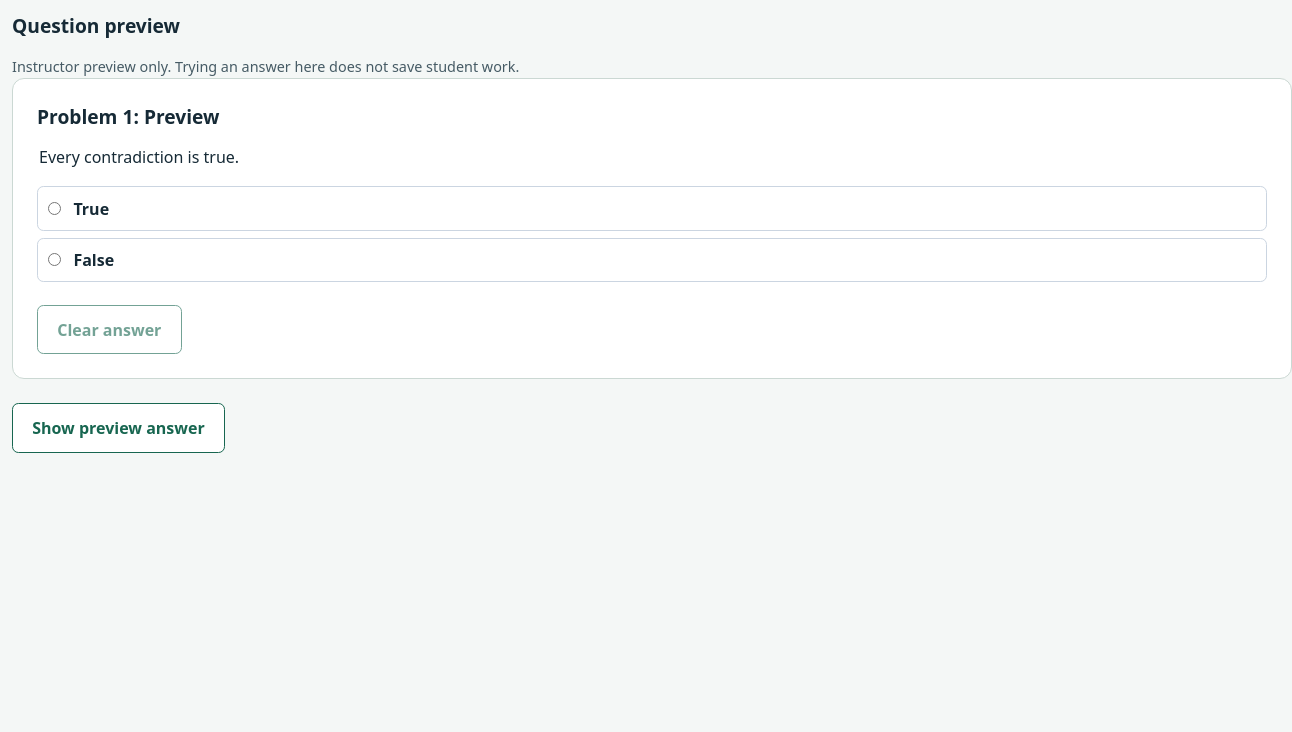
it: conceptual preview is interactive and reveals the explanation only on request
The width and height of the screenshot is (1292, 732).
Click the radio button labelled "True" at (55, 208), box x1=48 y1=202 x2=61 y2=215
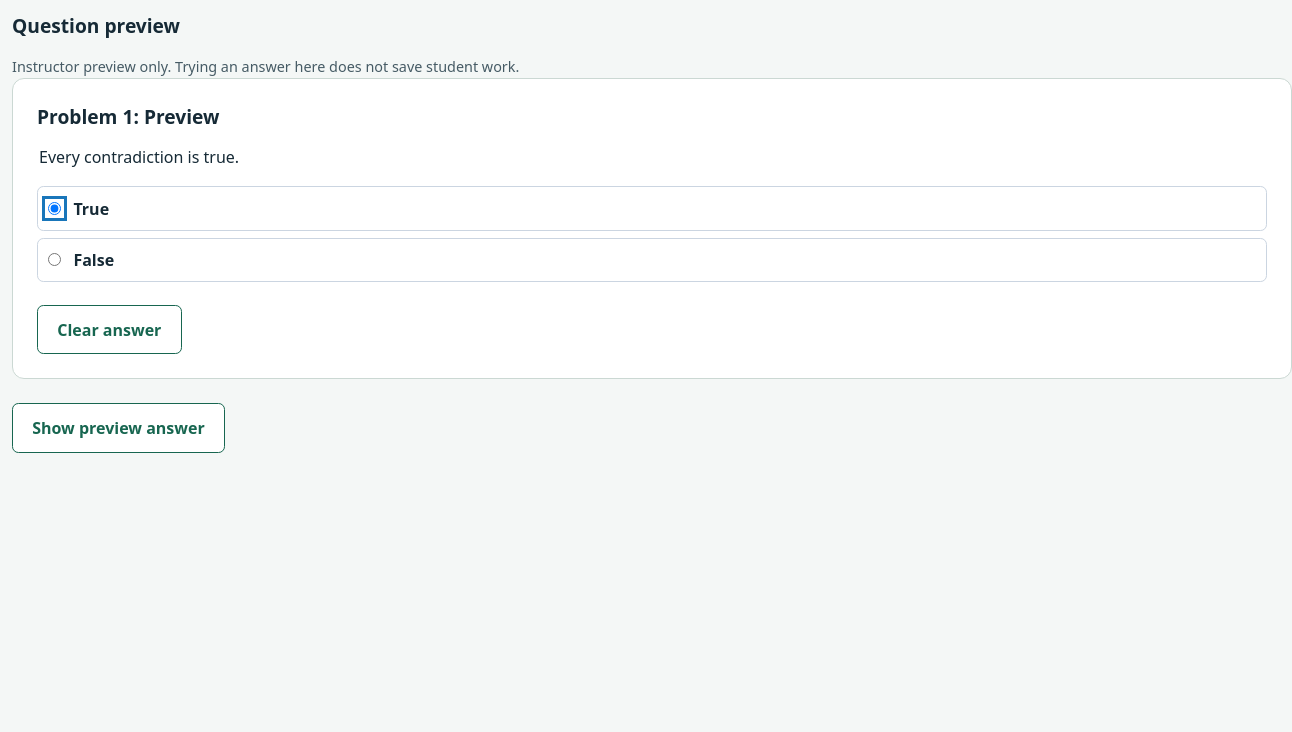
Check: the text "Private explanation." is not shown
Click the button "Show preview answer" at (118, 428), box x1=12 y1=403 x2=225 y2=453
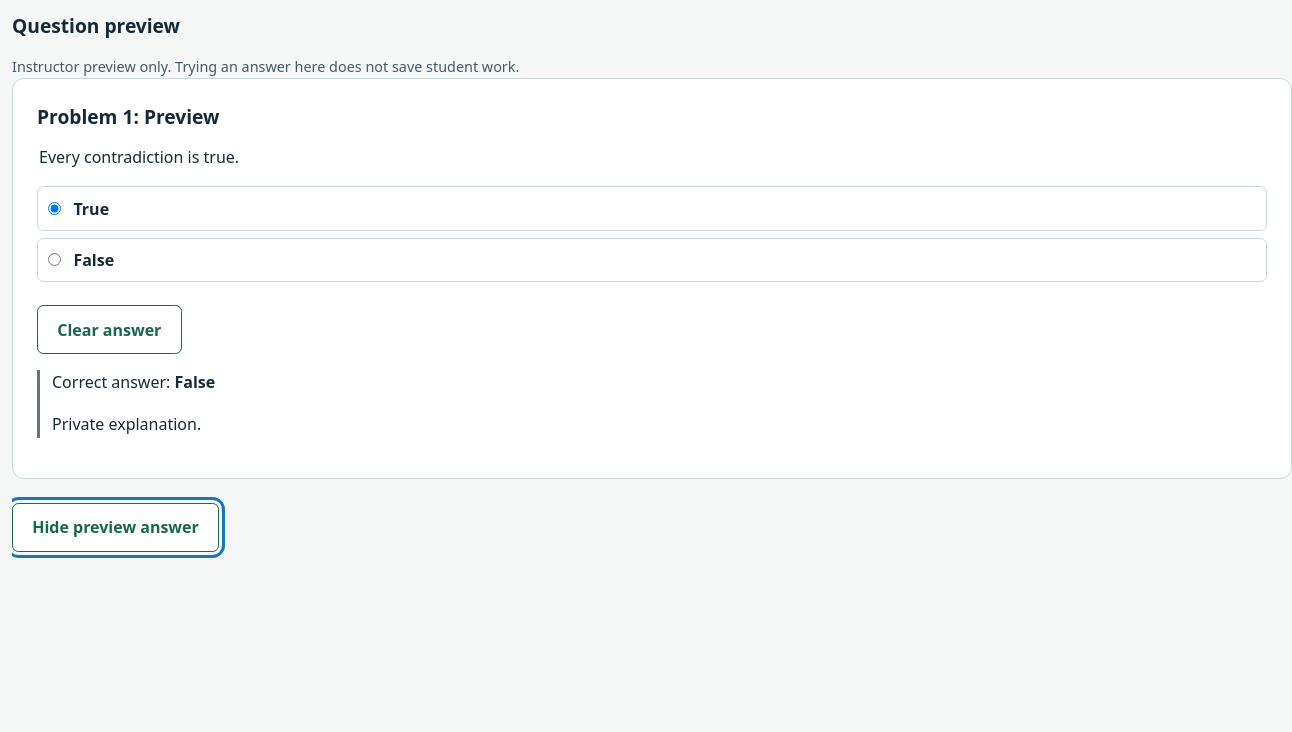
Check: the radio button labelled "True" is checked, box x1=48 y1=202 x2=61 y2=215
Check: the text "Private explanation." is shown, box x1=52 y1=413 x2=201 y2=435
Click the button "Hide preview answer" at (116, 527), box x1=12 y1=503 x2=219 y2=552
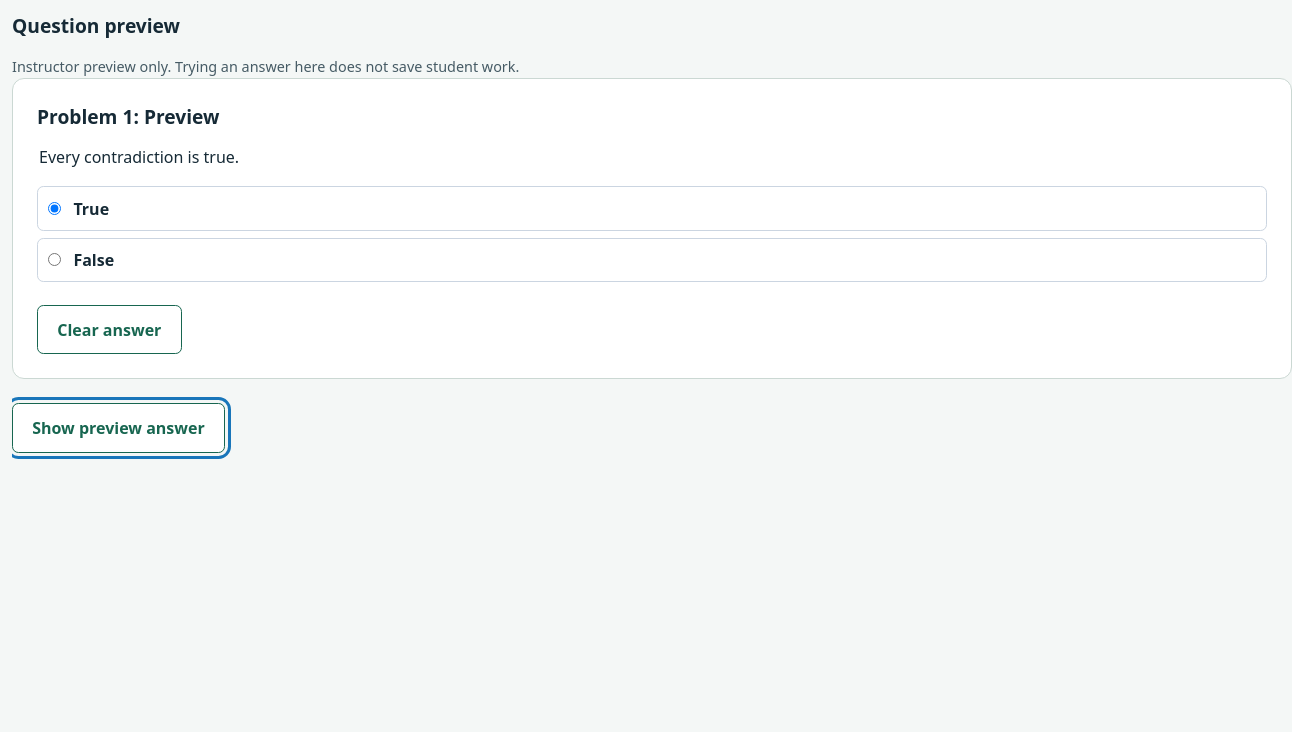
Check: the text "Private explanation." is gone
